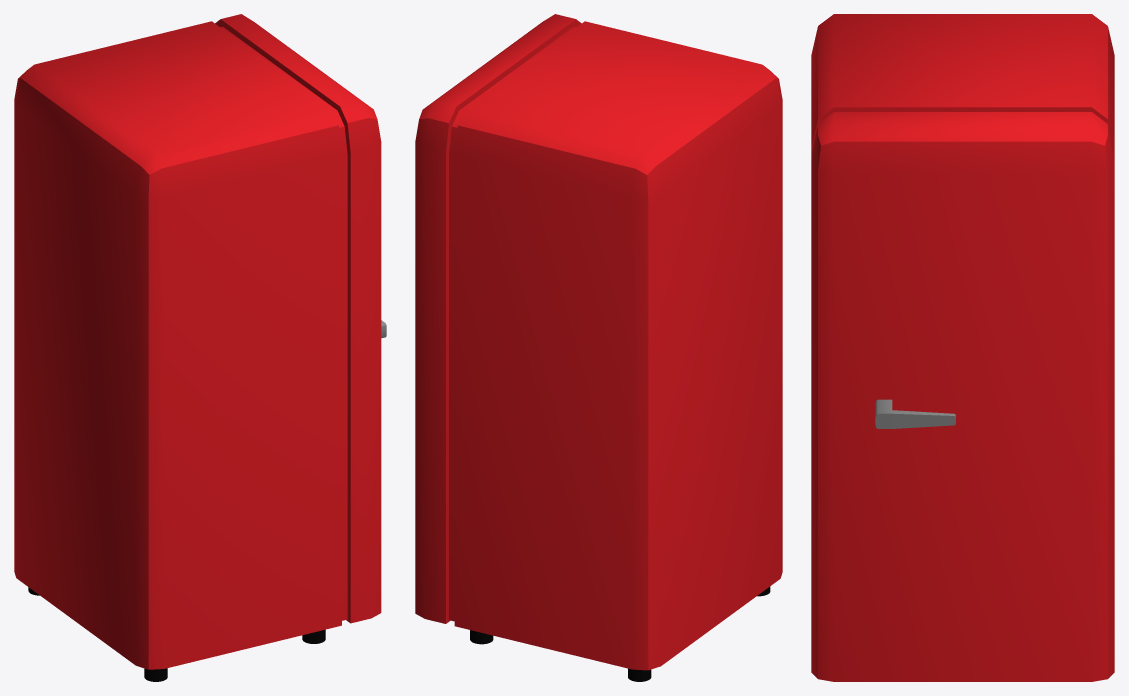
Rendered from kühlschrank.fbx.
3 views of the same model, side by side, from view 1: azimuth 30°, elevation 25°; view 2: azimuth 150°, elevation 25°; view 3: azimuth 270°, elevation 25° (orthographic). The views are drawn at different scales.
Visible parts, largest first — view 1: Cube; view 2: Cube; view 3: Cube.
Boxes of the visible parts, <box> form: Cube: <box>14,14,386,681</box>; Cube: <box>415,14,782,681</box>; Cube: <box>811,14,1114,681</box>.
Bounding box in the file's own units: 77.72 × 145 × 70.
